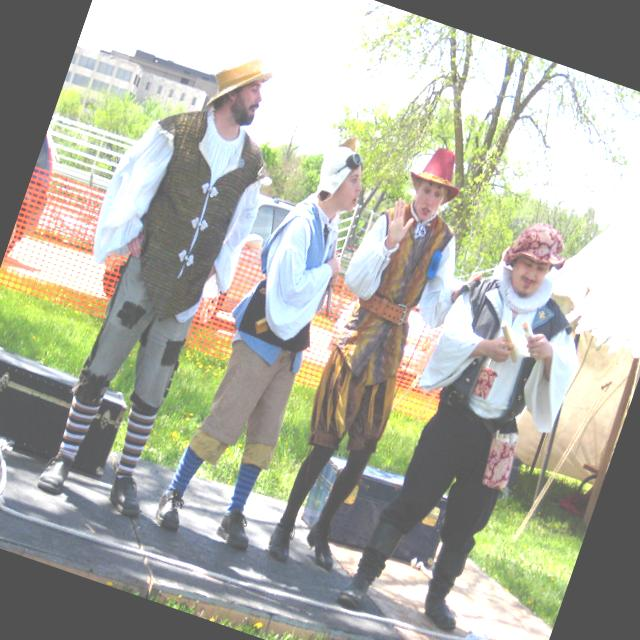Vehicle: (242, 192, 296, 254)
